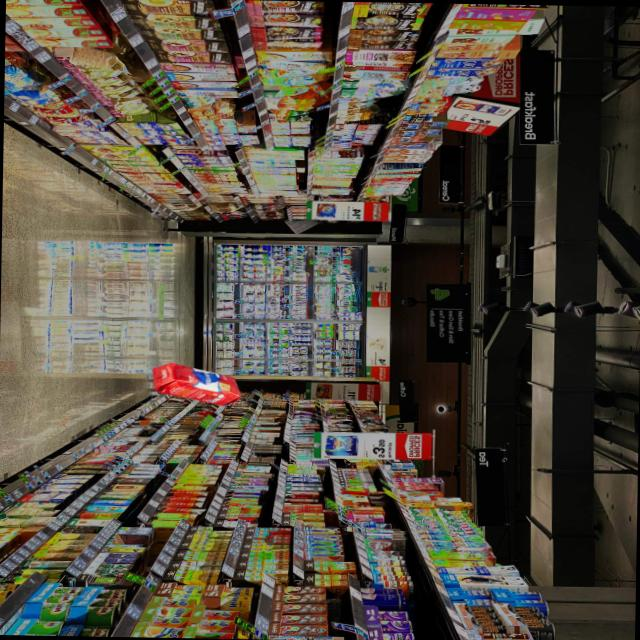mate bag: (151, 361, 242, 406)
